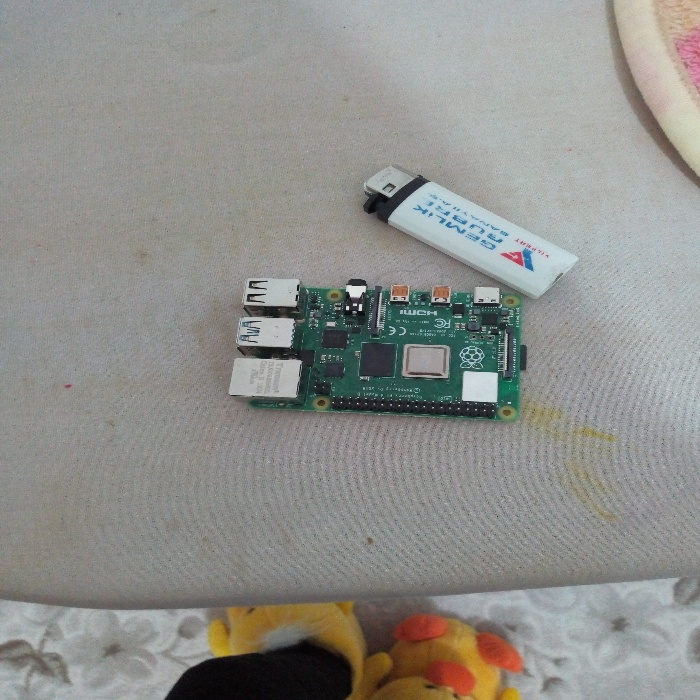raspberry: (204, 262, 543, 431)
